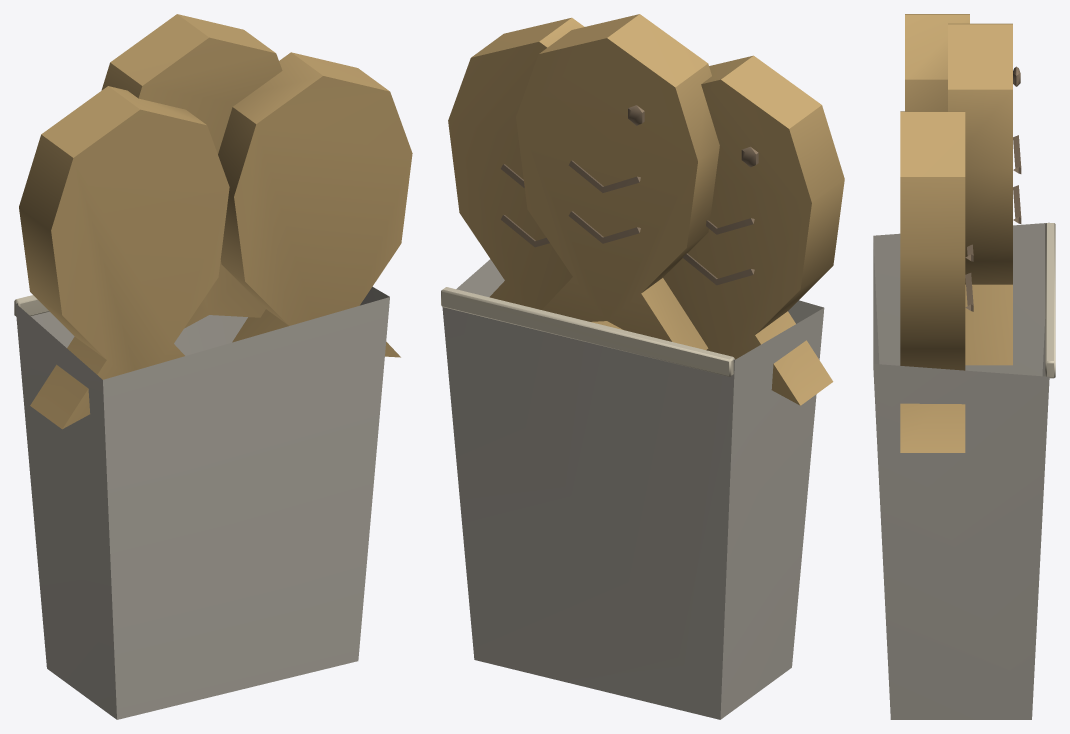
File: snack_fishbread.glb
The picture shows the model from 3 angles, left to right: view 1: azimuth 30°, elevation 25°; view 2: azimuth 150°, elevation 25°; view 3: azimuth 270°, elevation 25°; orthographic projection. The views are drawn at different scales.
Visible parts, largest first — view 1: snack_fishbread; view 2: snack_fishbread; view 3: snack_fishbread.
Part boxes in pixels (x1,y1,x2,y2): snack_fishbread: [14, 14, 412, 719]; snack_fishbread: [441, 14, 844, 719]; snack_fishbread: [873, 14, 1055, 719].
Size of the model in its own units: 0.0875 by 0.1472 by 0.0383.
